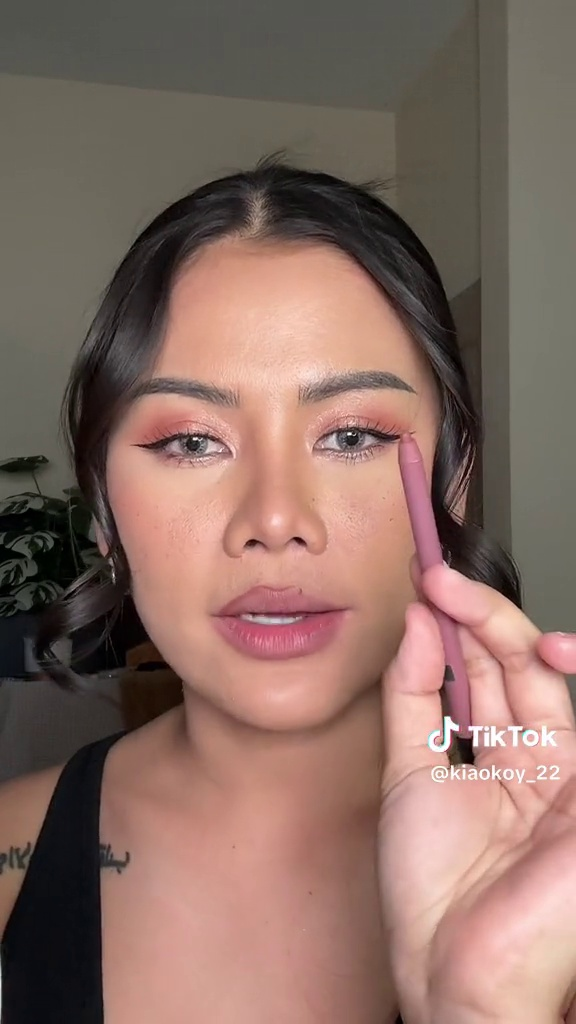train' :'yolo_data/train/images',: (391, 428, 480, 741)
